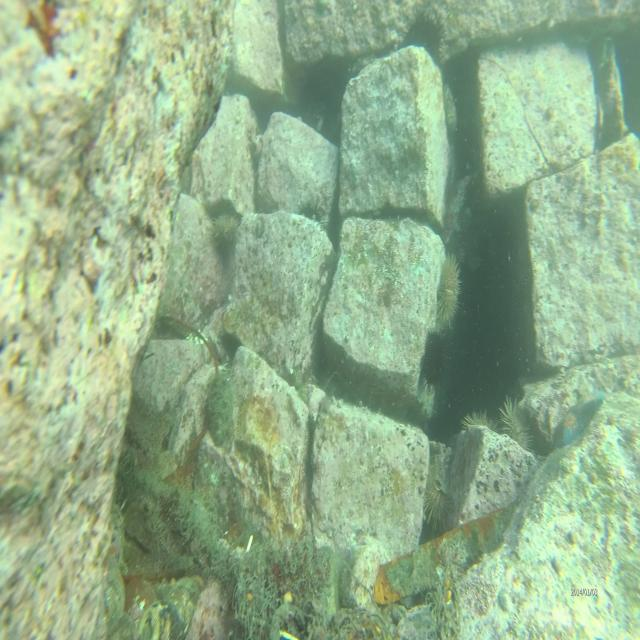echinus: (402, 7, 451, 75), (423, 457, 458, 531), (499, 397, 537, 457), (437, 250, 464, 334), (460, 407, 499, 446), (211, 207, 239, 259), (294, 198, 326, 234)
starfish: (552, 387, 607, 449)
